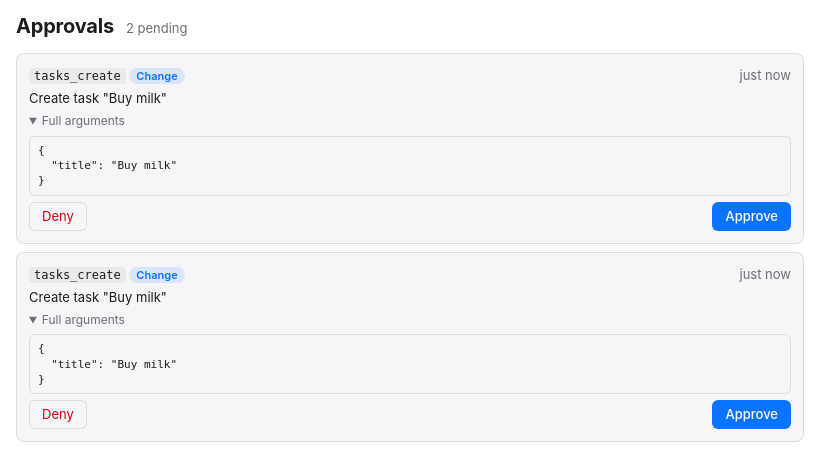
Test: ApprovalsView guards › double-click on row 1 cannot approve row 2; rows are inert after a decision
Later steps or results of the test are not shown.
Double-click the 1st button with test id "row-approve".
double_click(752, 216)  # box 712,202 -> 791,231
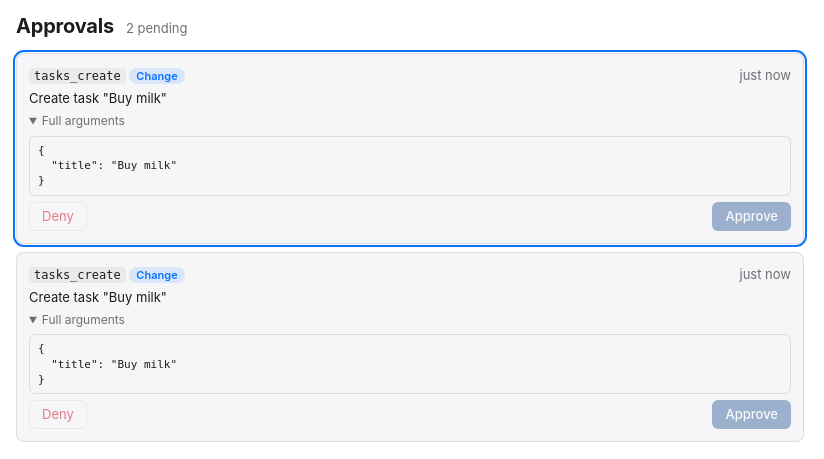
expect the 2nd button with test id "row-approve" is disabled: met, box 712,400 -> 791,429
